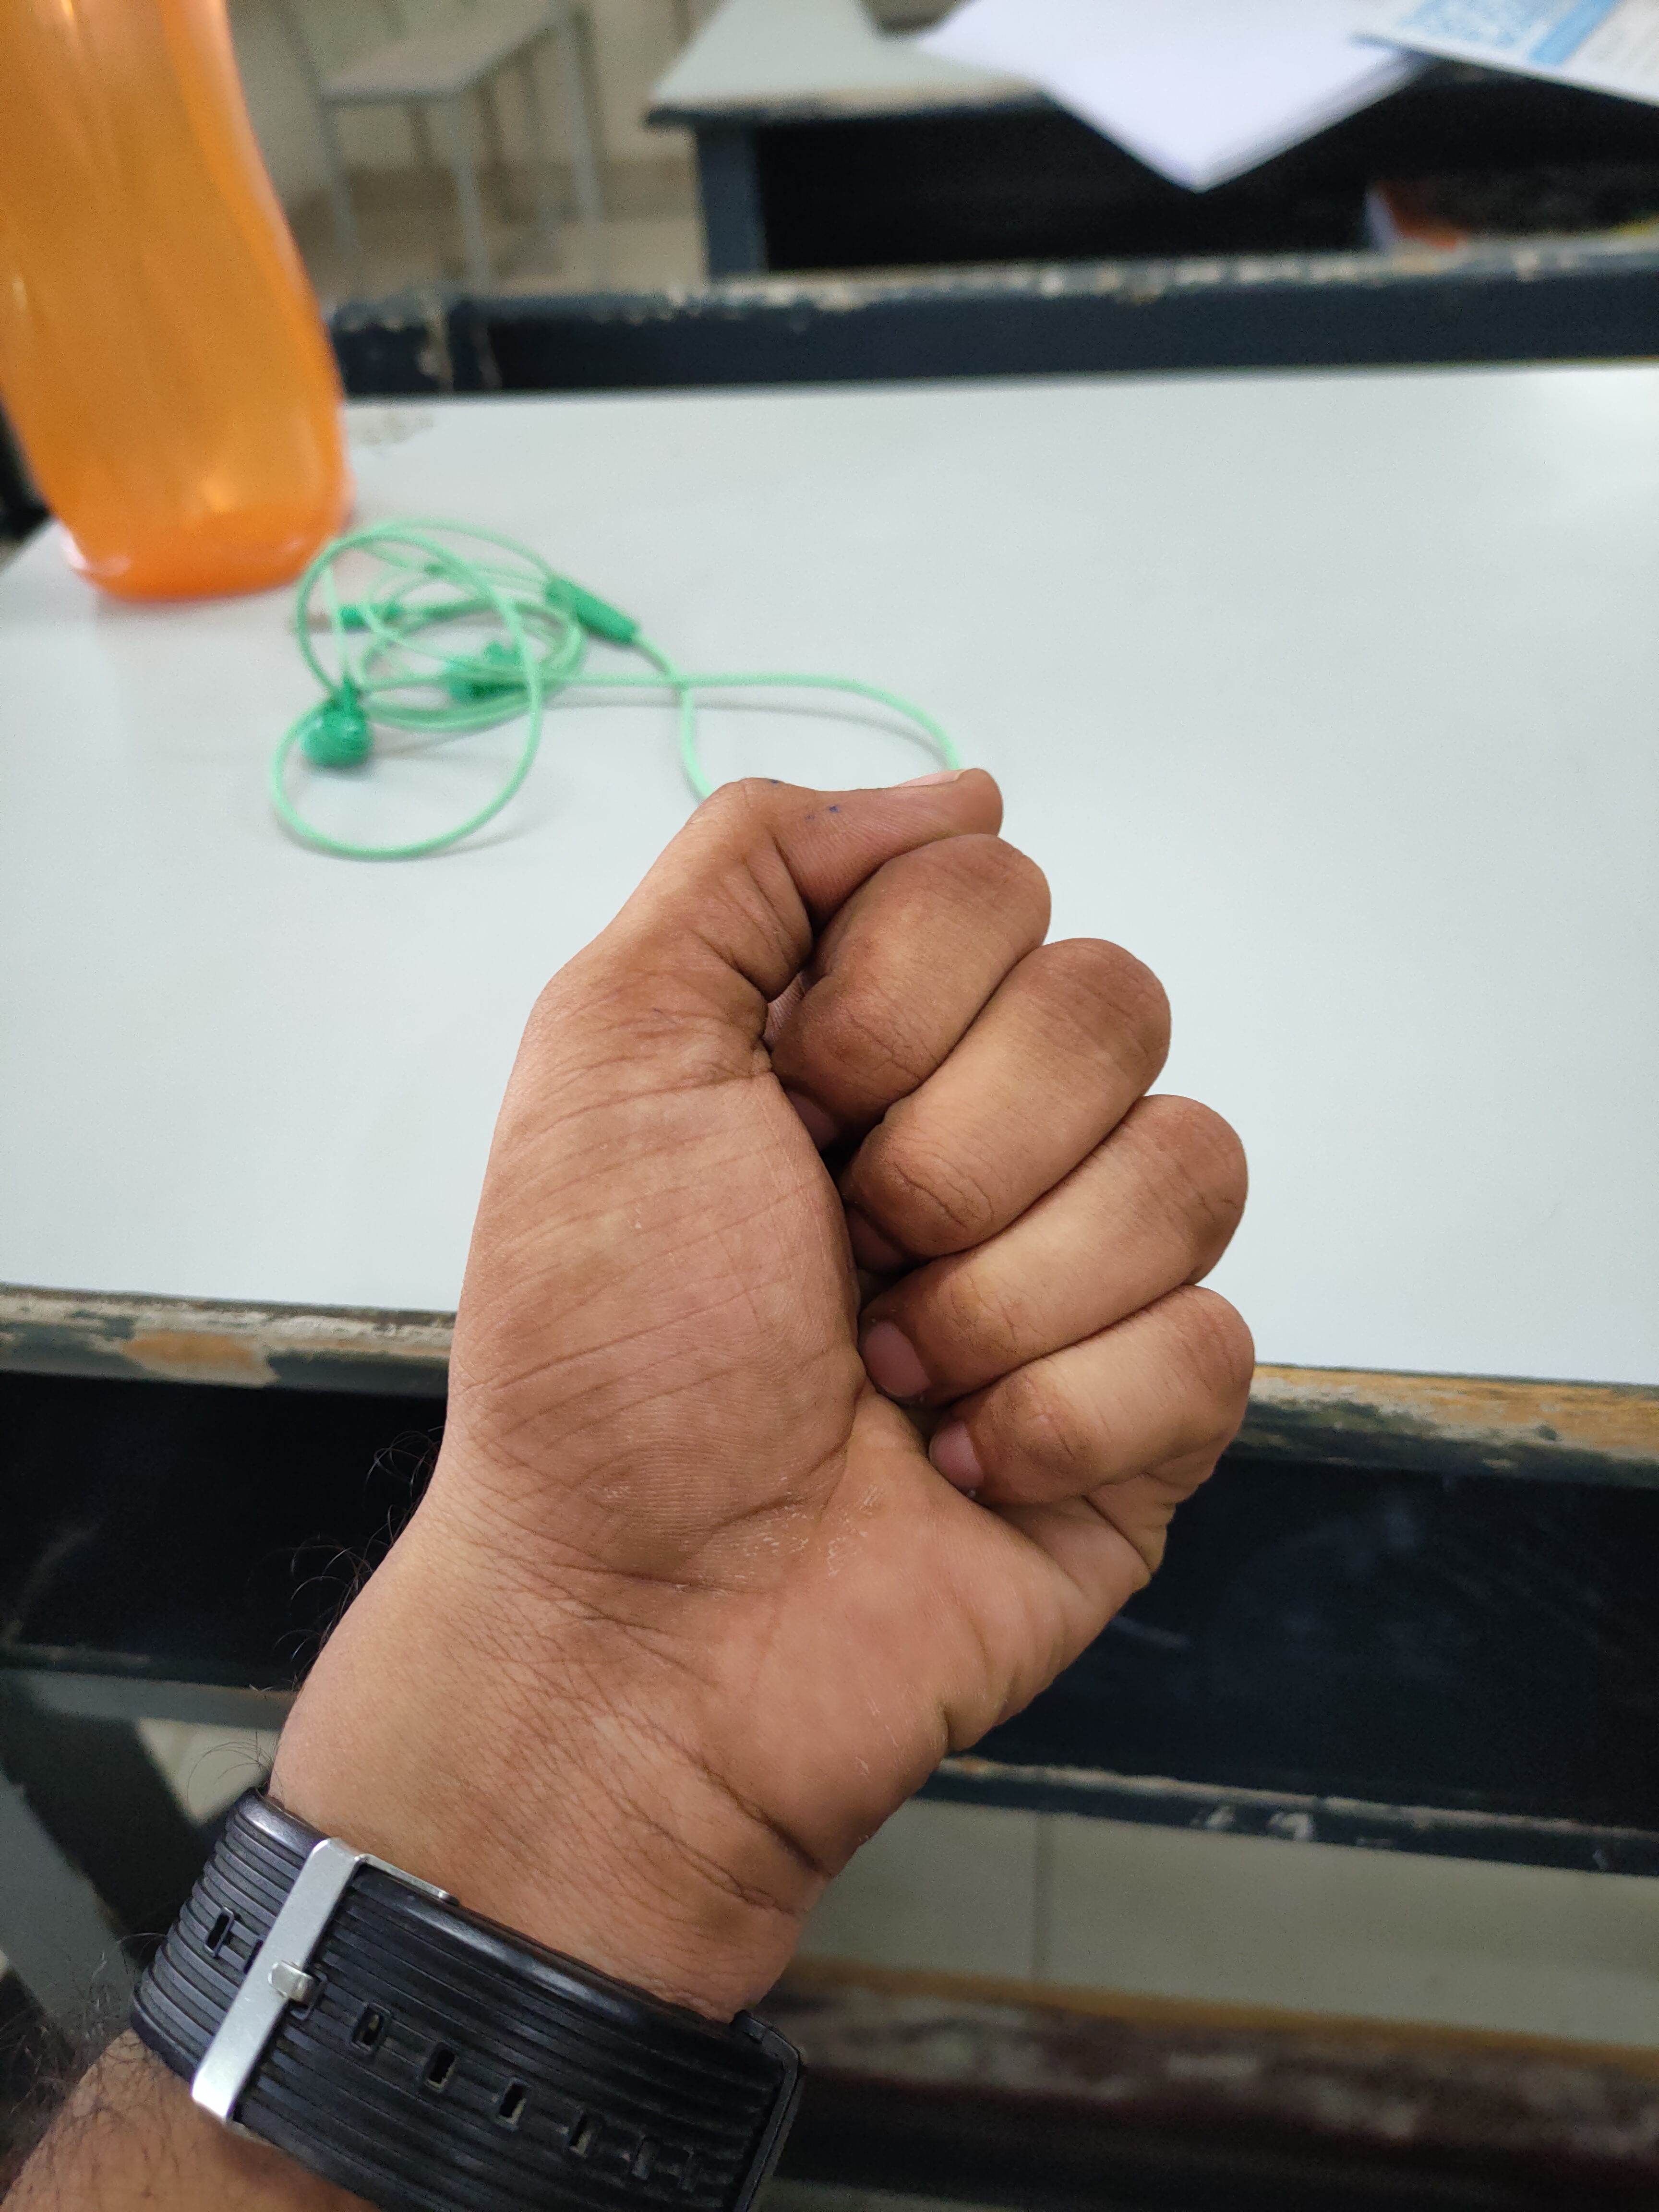A: (415, 765, 1283, 1895)
